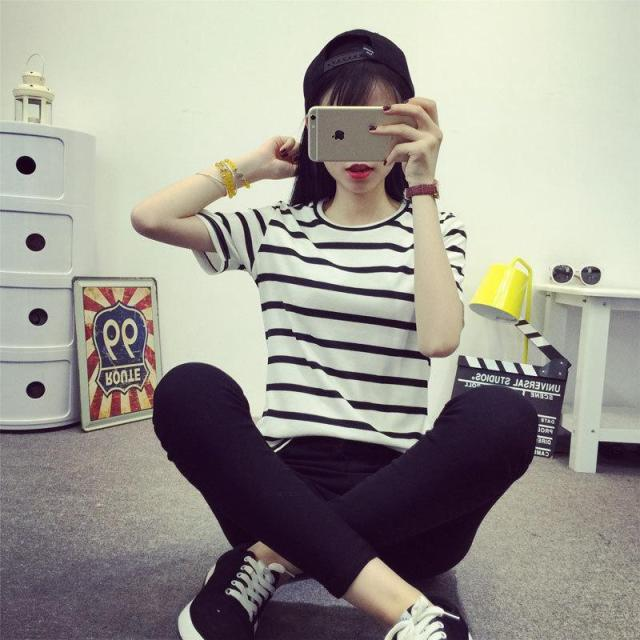short sleeve top: (193, 199, 467, 455)
trousers: (153, 364, 539, 600)
